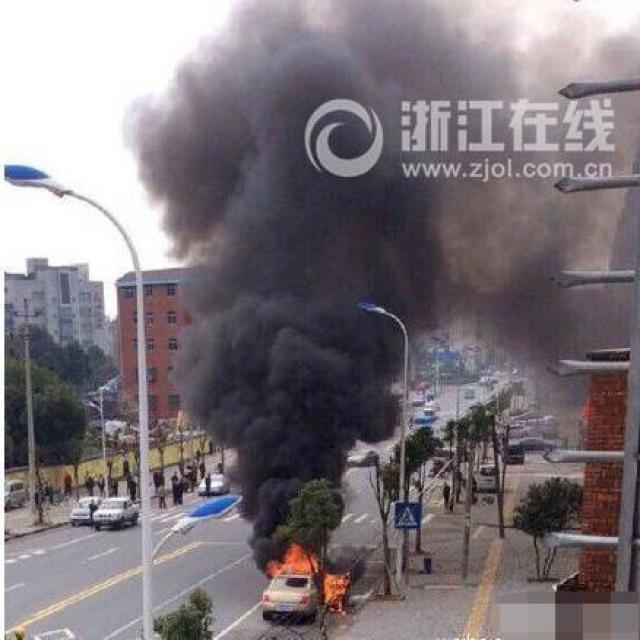fire: (262, 540, 351, 607)
smoke: (160, 3, 638, 560)
